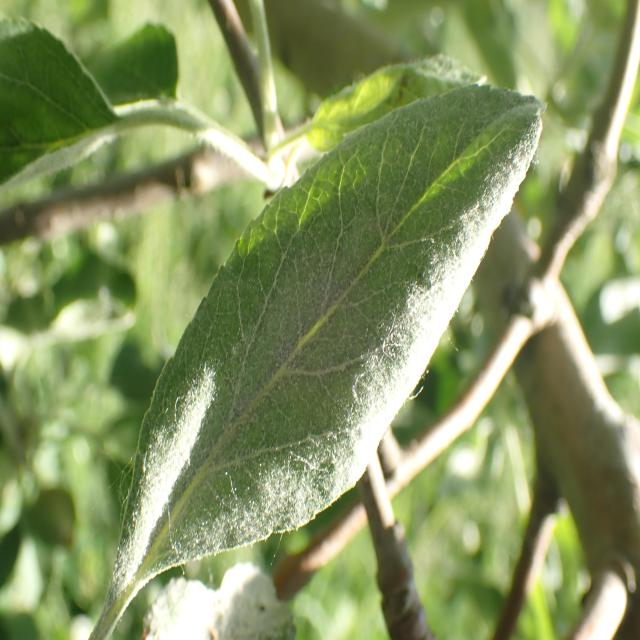Powdery_mildew: (82, 70, 543, 629)
